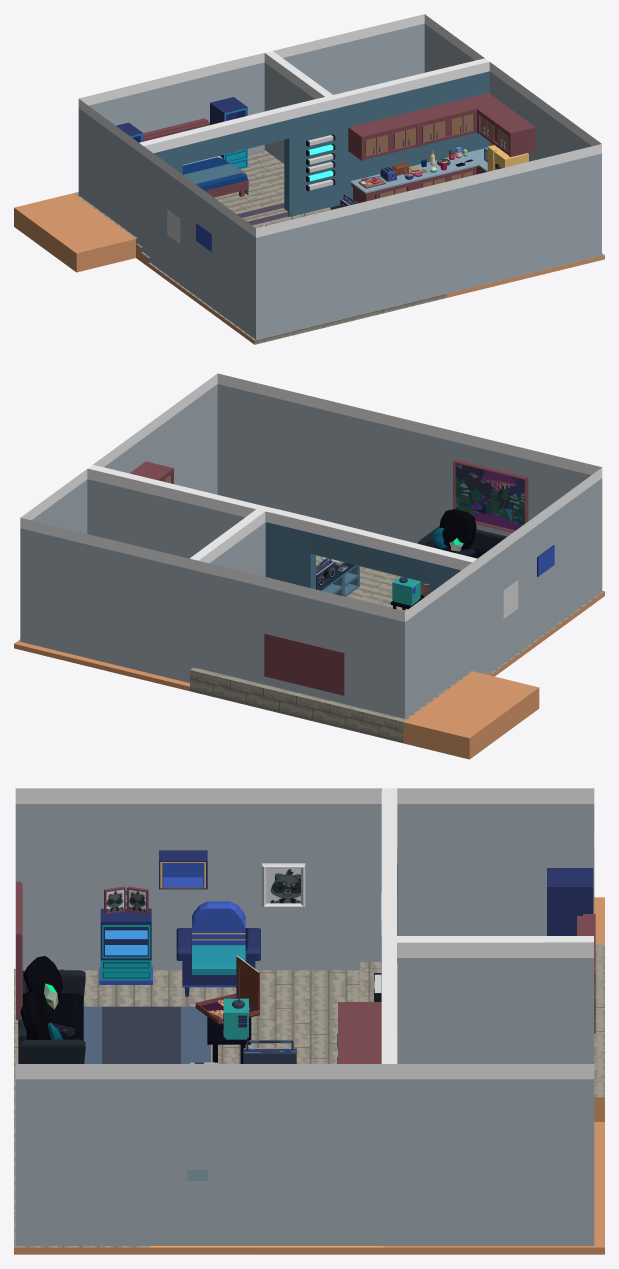
The model's file is INT_Apartment002.fbx.
The picture shows the model from 3 angles, top to bottom: view 1: azimuth 30°, elevation 25°; view 2: azimuth 150°, elevation 25°; view 3: azimuth 270°, elevation 25°; orthographic projection. The views are drawn at different scales.
Visible parts, largest first — view 1: Cube.1370, Cube.1369, Cube.1411, Cube.1423, Cube.1390, Cube.1447, Cube.1424, Cube.1393; view 2: Cube.1370, Cube.1369, Cube.1444, Cube.1423, Cube.1391, Cube.1428, Cube.1401, Cube.1411; view 3: Cube.1370, Cube.1369, Plane.007, Cube.1391, Cube.1426, Cube.1427, Cube.1430, Cube.1411, Cube.1443, Cube.1425, Cube.1385, Cube.1401 (+4 smaller).
Boxes of the visible parts, left/top/right/bottom form: Cube.1370: left=78, top=14, right=601, bottom=339; Cube.1369: left=14, top=150, right=604, bottom=344; Cube.1411: left=348, top=93, right=535, bottom=160; Cube.1423: left=143, top=118, right=248, bottom=197; Cube.1390: left=350, top=154, right=478, bottom=203; Cube.1447: left=306, top=134, right=335, bottom=191; Cube.1424: left=210, top=97, right=247, bottom=169; Cube.1393: left=487, top=145, right=528, bottom=171; Cube.1370: left=20, top=373, right=602, bottom=718; Cube.1369: left=14, top=555, right=604, bottom=759; Cube.1444: left=453, top=459, right=528, bottom=532; Cube.1423: left=264, top=633, right=344, bottom=695; Cube.1391: left=418, top=509, right=506, bottom=558; Cube.1428: left=316, top=563, right=359, bottom=596; Cube.1401: left=392, top=576, right=420, bottom=605; Cube.1411: left=129, top=461, right=173, bottom=483; Cube.1370: left=15, top=788, right=594, bottom=1245; Cube.1369: left=14, top=897, right=604, bottom=1254; Plane.007: left=83, top=1006, right=210, bottom=1063; Cube.1391: left=18, top=956, right=85, bottom=1063; Cube.1426: left=176, top=901, right=260, bottom=996; Cube.1427: left=99, top=908, right=152, bottom=984; Cube.1430: left=547, top=868, right=593, bottom=935; Cube.1411: left=337, top=1002, right=381, bottom=1063; Cube.1443: left=262, top=863, right=305, bottom=907; Cube.1425: left=159, top=850, right=207, bottom=889; Cube.1385: left=195, top=955, right=259, bottom=1024; Cube.1401: left=222, top=965, right=248, bottom=1039.
Size of the model in its own units: 1934 by 525 by 1481.
